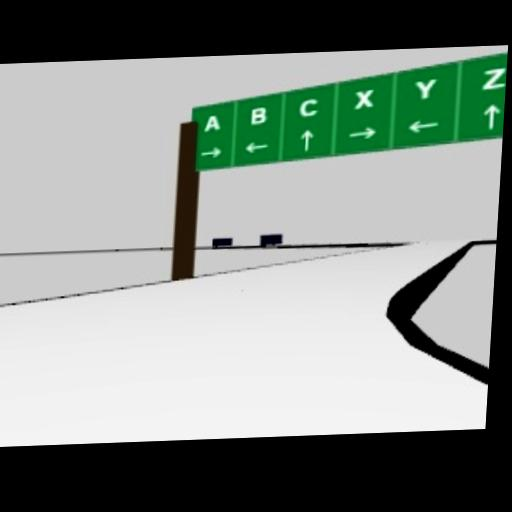A: (203, 114, 222, 132)
B: (250, 106, 268, 124)
C: (296, 97, 320, 118)
Left: (405, 118, 441, 134), (243, 141, 269, 154)
Right: (348, 127, 377, 140), (198, 145, 221, 158)
Straight: (481, 102, 501, 129), (298, 129, 314, 152)
X: (353, 89, 376, 110)
Y: (414, 78, 438, 98)
Z: (480, 67, 506, 90)
